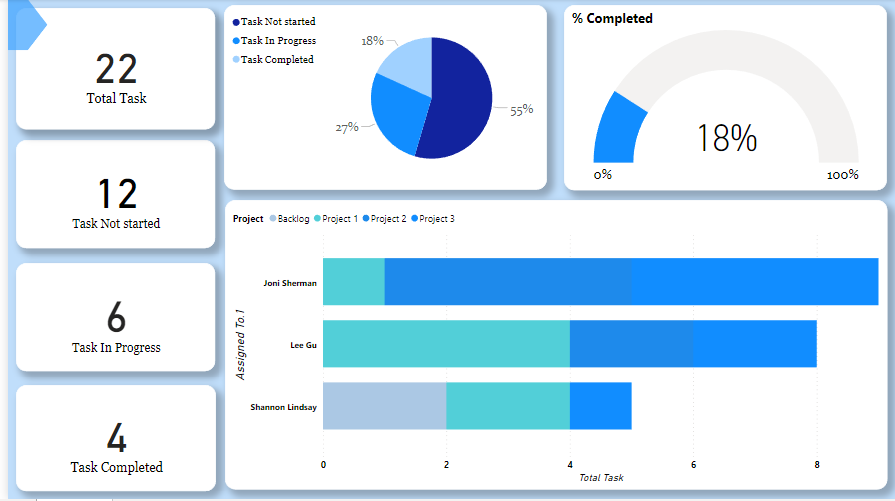

This screenshot's page, from the dashboard's own definition file:
{"tool":"powerbi","page":{"name":"Page 1","canvas":[1280,720],"ordinal":0},"visuals":[{"type":"card","fields":{"Values":["Tasks.Task Not started"]},"box":[11.8,203.3,287.2,156.2],"z":0},{"type":"card","fields":{"Values":["Tasks.Task In Progress"]},"box":[11.8,379.6,287.2,156.2],"z":1000},{"type":"card","fields":{"Values":["Tasks.Total Task"]},"box":[11.8,13.4,287.2,174.7],"z":2000},{"type":"card","fields":{"Values":["Tasks.Task Completed"]},"box":[11.5,555.8,288,152.6],"z":3000},{"type":"pieChart","fields":{"Y":["Tasks.Task Not started","Tasks.Task In Progress","Tasks.Task Completed"]},"box":[311,8.6,465.1,266.4],"z":4000},{"type":"gauge","fields":{"Y":["Tasks.% Completed"]},"box":[801.3,8.4,465.3,267.1],"z":5000},{"type":"barChart","fields":{"Category":["Tasks.Assigned To.1"],"Series":["Tasks.Bucket Name"],"Y":["Tasks.Total Task"]},"box":[312.7,288.8,953.6,417],"z":6000},{"type":"actionButton","box":[0,0,57.1,73.9],"z":11000}]}

Visuals, with their boxes in screenshot pixels (x1, y1, x2, y2), scaled from the page's 1280x720 canvas onto the 895x501 screenshot:
card - Tasks.Task Not started: select_region(8, 141, 209, 250)
card - Tasks.Task In Progress: select_region(8, 264, 209, 373)
card - Tasks.Total Task: select_region(8, 9, 209, 131)
card - Tasks.Task Completed: select_region(8, 387, 209, 493)
pieChart - Tasks.Task Not started x Tasks.Task In Progress: select_region(217, 6, 543, 191)
gauge - Tasks.% Completed: select_region(560, 6, 886, 192)
barChart - Tasks.Assigned To.1 x Tasks.Bucket Name: select_region(219, 201, 885, 491)
actionButton: select_region(0, 0, 40, 51)
